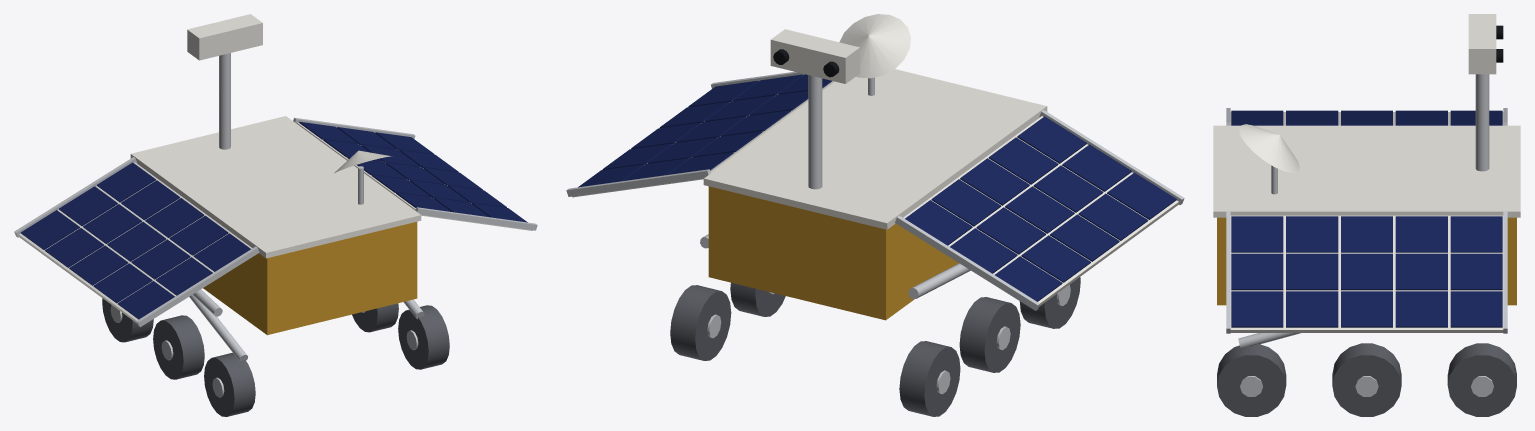
The model's file is yutu2.glb.
The picture shows the model from 3 angles, left to right: view 1: azimuth 30°, elevation 25°; view 2: azimuth 150°, elevation 25°; view 3: azimuth 270°, elevation 25°; orthographic projection. The views are drawn at different scales.
Parts seen in each view (by area): view 1: Deck, Wing_L, Body, Wing_R, Wheel_-1_0, PancamHead, Wheel_-1_0.5, Wheel_1_0.5, Wing_L_Back, Mast, Wheel_-1_-0.5, Wheel_1_0 (+2 smaller); view 2: Deck, Wing_L, Body, Wing_R, Wheel_1_-0.5, Wheel_-1_0, Wheel_-1_-0.5, PancamHead, Antenna, Wing_L_Back, Mast, Wheel_-1_0.5 (+3 smaller); view 3: Wing_R, Deck, Wing_R_Back, Wing_L, Wheel_1_-0.5, Wheel_1_0, Wheel_1_0.5, Body, PancamHead, Antenna, Mast, Bogie_1 (+3 smaller).
Boxes of the visible parts, left/top/right/bottom form: Deck: left=130, top=116, right=421, bottom=258; Wing_L: left=14, top=157, right=259, bottom=327; Body: left=203, top=222, right=417, bottom=335; Wing_R: left=293, top=117, right=537, bottom=230; Wheel_-1_0: left=153, top=315, right=204, bottom=379; PancamHead: left=187, top=14, right=262, bottom=60; Wheel_-1_0.5: left=204, top=352, right=255, bottom=416; Wheel_1_0.5: left=398, top=305, right=449, bottom=369; Wing_L_Back: left=19, top=162, right=252, bottom=323; Mast: left=219, top=53, right=230, bottom=149; Wheel_-1_-0.5: left=102, top=298, right=153, bottom=342; Wheel_1_0: left=352, top=303, right=398, bottom=332; Deck: left=703, top=69, right=1047, bottom=229; Wing_L: left=895, top=110, right=1184, bottom=310; Body: left=708, top=186, right=958, bottom=320; Wing_R: left=566, top=71, right=831, bottom=196; Wheel_1_-0.5: left=670, top=285, right=731, bottom=360; Wheel_-1_0: left=959, top=297, right=1020, bottom=372; Wheel_-1_-0.5: left=899, top=341, right=960, bottom=416; PancamHead: left=770, top=29, right=859, bottom=83; Antenna: left=839, top=14, right=910, bottom=78; Wing_L_Back: left=903, top=116, right=1178, bottom=306; Mast: left=808, top=75, right=822, bottom=189; Wheel_-1_0.5: left=1019, top=277, right=1080, bottom=328; Wing_R: left=1226, top=211, right=1507, bottom=333; Deck: left=1213, top=125, right=1520, bottom=217; Wing_R_Back: left=1230, top=215, right=1503, bottom=332; Wing_L: left=1226, top=108, right=1507, bottom=125; Wheel_1_-0.5: left=1447, top=343, right=1516, bottom=416; Wheel_1_0: left=1332, top=343, right=1401, bottom=416; Wheel_1_0.5: left=1217, top=344, right=1286, bottom=416; Body: left=1217, top=217, right=1516, bottom=305; PancamHead: left=1468, top=14, right=1496, bottom=74; Antenna: left=1239, top=124, right=1299, bottom=172; Mast: left=1475, top=74, right=1489, bottom=171; Bogie_1: left=1238, top=333, right=1300, bottom=347.
Size of the model in its own units: 2.26 by 1.56 by 1.33.
